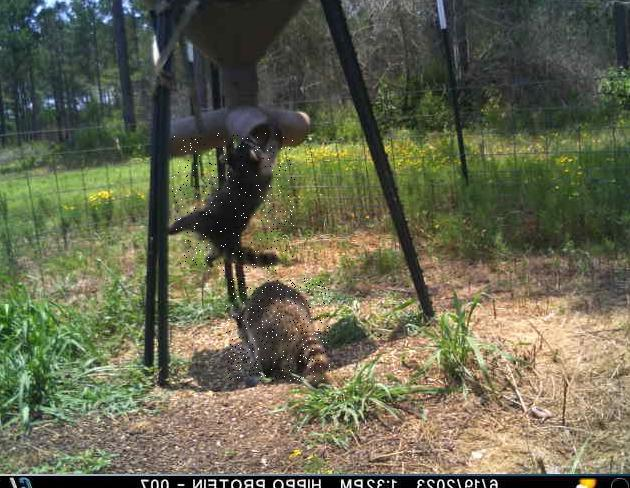Raccoon: (172, 133, 295, 272), (225, 279, 329, 382)
